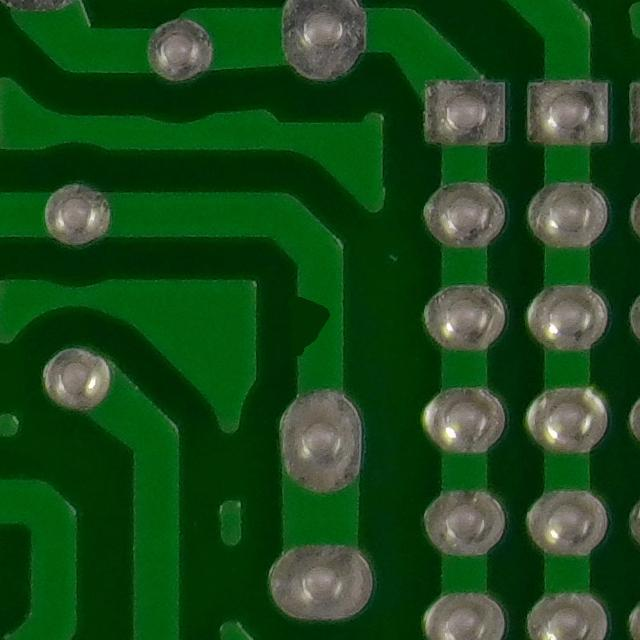mouse_bite: (281, 275, 359, 365)
